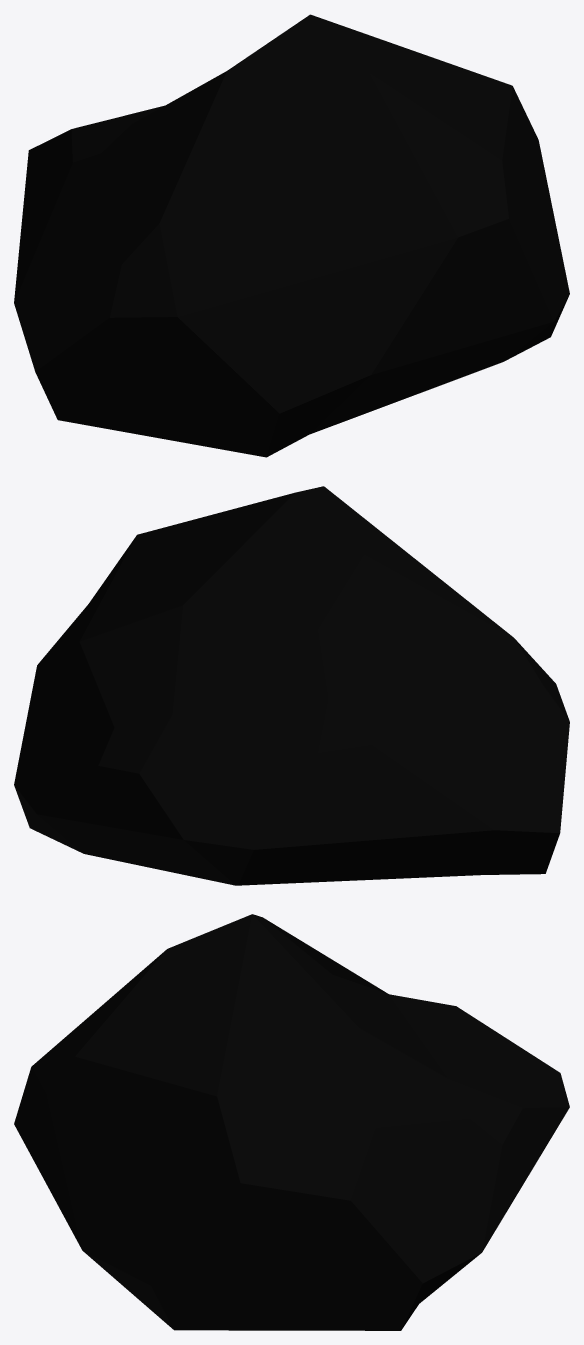
Rendered from Stone.fbx.
3 views of the same model, one above another, from view 1: azimuth 30°, elevation 25°; view 2: azimuth 150°, elevation 25°; view 3: azimuth 270°, elevation 25° (orthographic). The views are drawn at different scales.
Visible parts, largest first — view 1: Icosphere; view 2: Icosphere; view 3: Icosphere.
Part boxes in pixels (bbox=[...]): Icosphere: bbox=[14, 14, 569, 457]; Icosphere: bbox=[14, 486, 569, 885]; Icosphere: bbox=[14, 914, 569, 1330].
Bounding box in the file's own units: 45.7 × 31.7 × 46.53.
